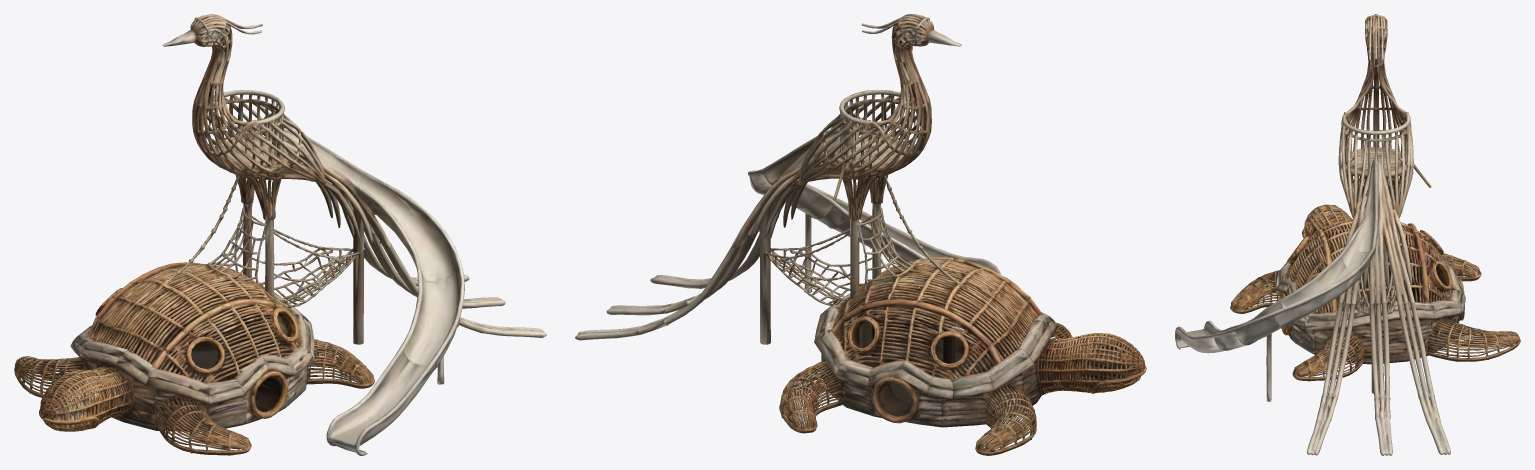
Rendered from turtle.glb.
3 views of the same model, side by side, from view 1: azimuth 30°, elevation 25°; view 2: azimuth 150°, elevation 25°; view 3: azimuth 270°, elevation 25° (orthographic). The views are drawn at different scales.
Visible parts, largest first — view 1: tripo_node_d8e284a6-644b-402c-8b2f-e1890b8d97c1; view 2: tripo_node_d8e284a6-644b-402c-8b2f-e1890b8d97c1; view 3: tripo_node_d8e284a6-644b-402c-8b2f-e1890b8d97c1.
Boxes of the visible parts, <box> form: tripo_node_d8e284a6-644b-402c-8b2f-e1890b8d97c1: <box>14,14,546,455</box>; tripo_node_d8e284a6-644b-402c-8b2f-e1890b8d97c1: <box>575,14,1146,455</box>; tripo_node_d8e284a6-644b-402c-8b2f-e1890b8d97c1: <box>1175,14,1520,455</box>.
Bounding box in the file's own units: 0.9807 × 0.6866 × 0.6865.
Materials: 1 (1 with a texture image).
